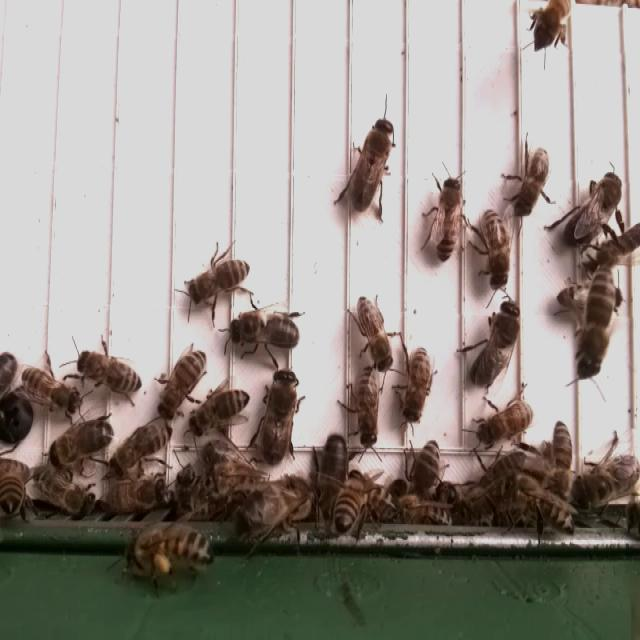Drone: (559, 169, 626, 255), (345, 117, 396, 218), (468, 298, 522, 390), (44, 411, 117, 479), (257, 366, 303, 466), (567, 452, 640, 513), (226, 306, 301, 357), (315, 426, 351, 513)
Worker: (103, 410, 173, 485), (421, 164, 472, 265), (508, 128, 562, 221), (477, 201, 522, 307), (154, 342, 210, 423), (577, 267, 616, 379), (72, 346, 143, 401), (180, 256, 252, 310), (17, 365, 84, 421), (185, 386, 252, 440), (325, 470, 374, 543), (355, 288, 395, 377), (473, 398, 536, 453), (408, 435, 444, 520), (399, 344, 435, 428), (354, 362, 385, 453)
